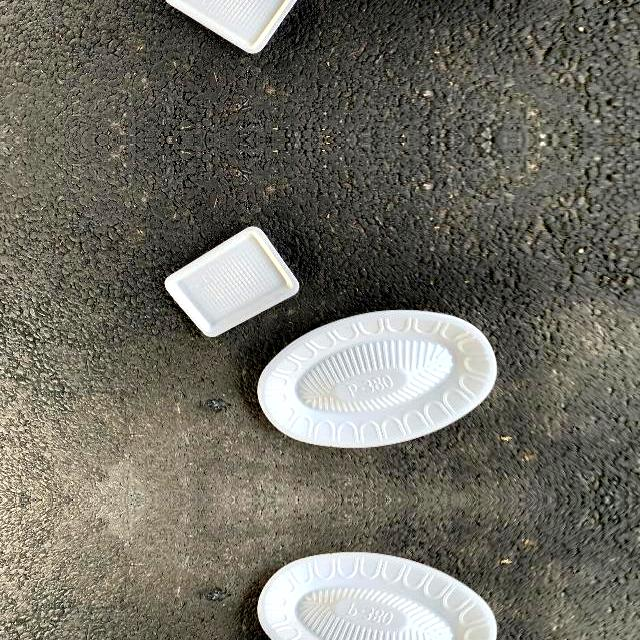Styrofoam: (256, 307, 496, 451), (258, 310, 498, 448), (256, 549, 495, 640), (258, 552, 498, 640), (162, 225, 300, 339), (164, 226, 299, 336), (162, 0, 299, 55), (165, 0, 297, 54)
